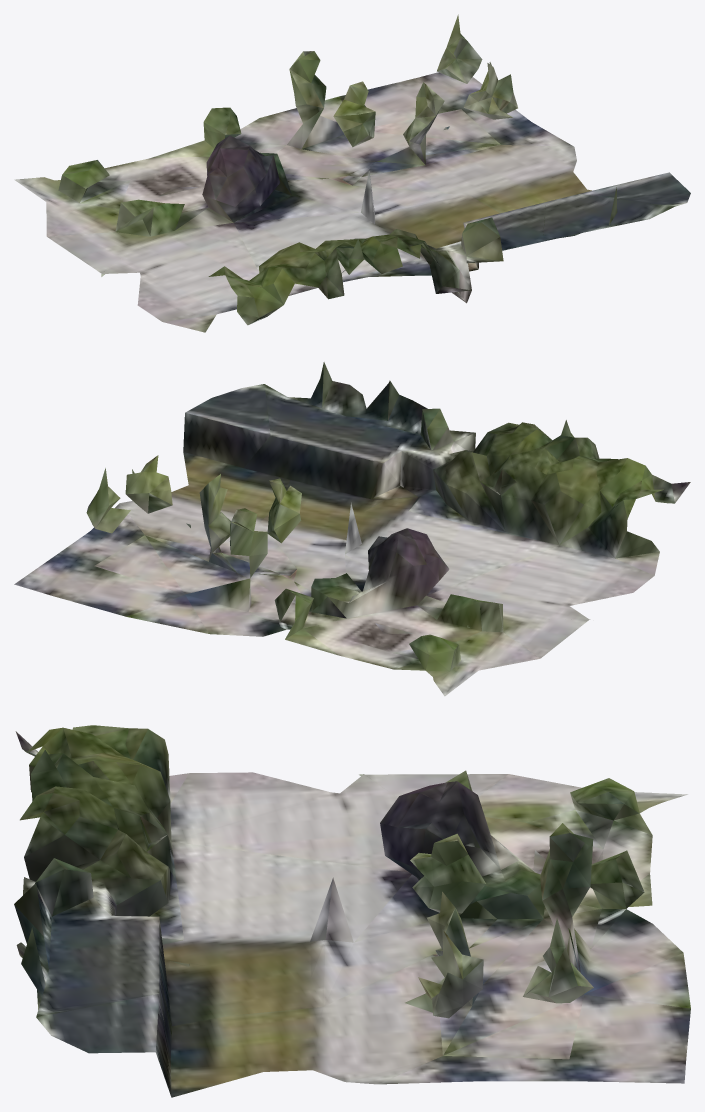
Rendered from Tile_+002_+008_L16_0.glb.
3 views of the same model, one above another, from view 1: azimuth 30°, elevation 25°; view 2: azimuth 150°, elevation 25°; view 3: azimuth 270°, elevation 25° (orthographic). The views are drawn at different scales.
Visible parts, largest first — view 1: rtc; view 2: rtc; view 3: rtc.
Boxes of the visible parts, x1,y1,x2,y2 form: rtc: (14, 14, 690, 332); rtc: (14, 362, 690, 696); rtc: (14, 725, 690, 1097).
Bounding box in the file's own units: 60.69 × 12.36 × 52.31.
1 material, 1 textured.
